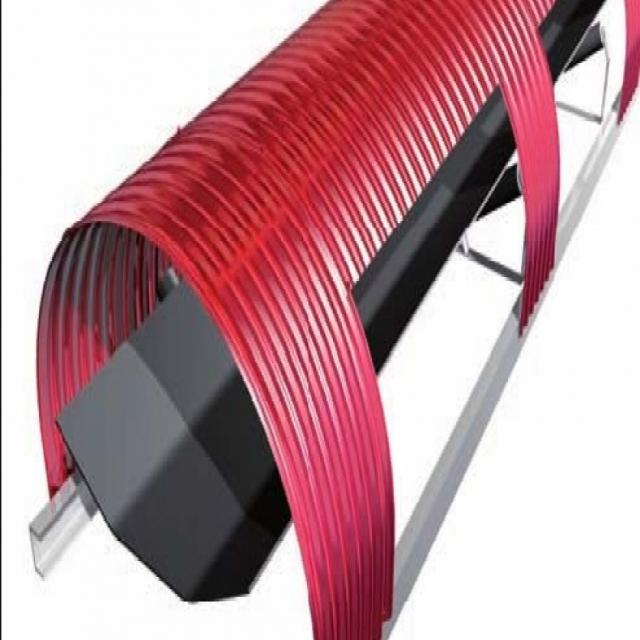conveyor: (54, 2, 611, 612)
